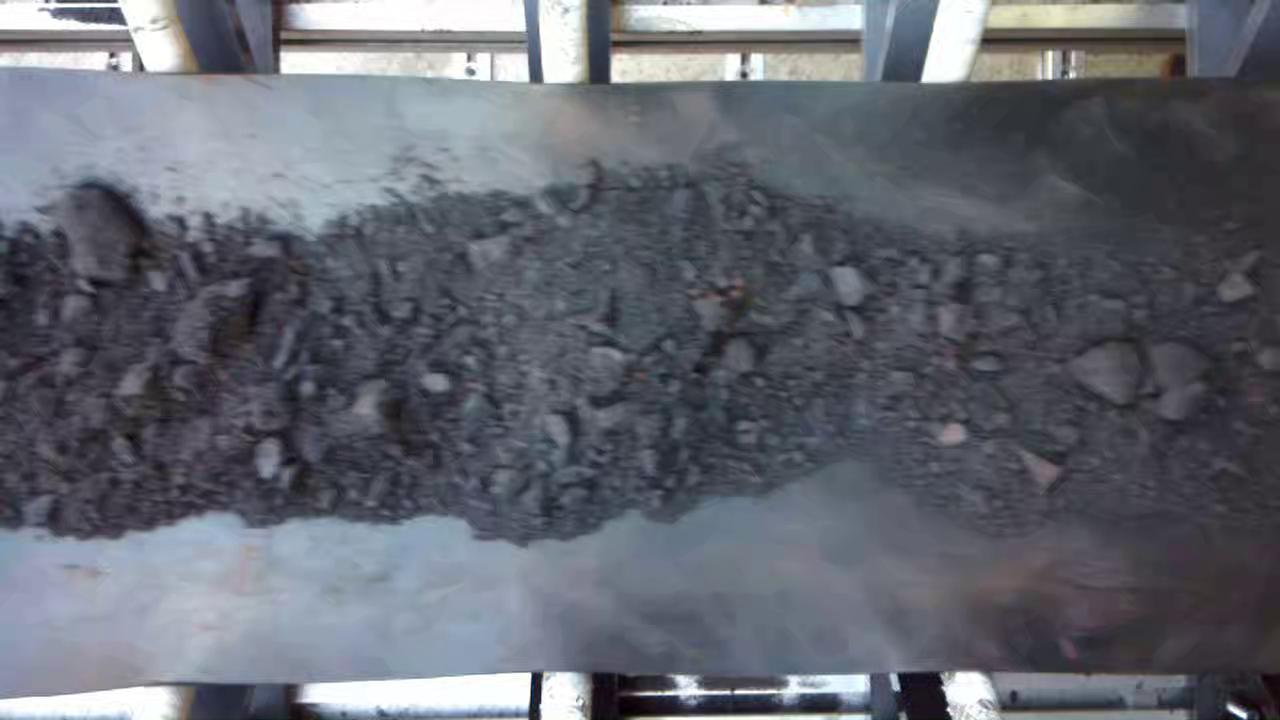conveyor: (6, 87, 1280, 668)
